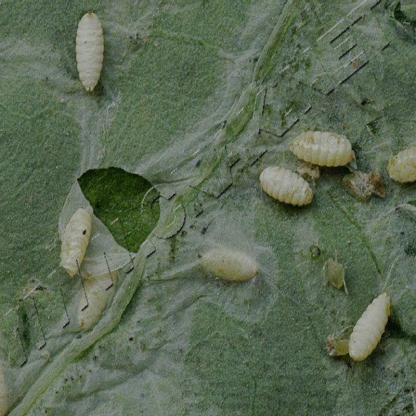whorl-maggot: (342, 282, 394, 364), (73, 10, 112, 94), (254, 162, 316, 214), (195, 240, 256, 290), (288, 128, 356, 166), (59, 209, 90, 280), (384, 140, 416, 184)
